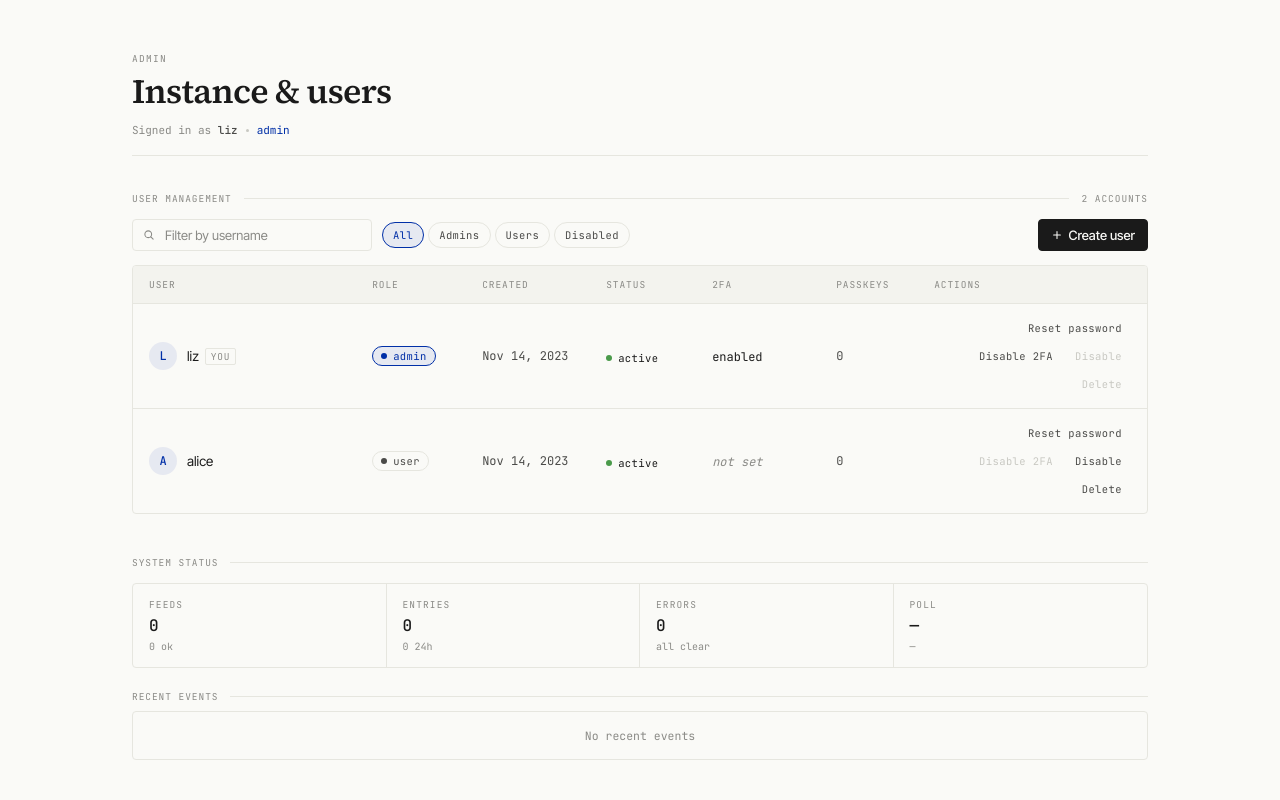
Scenario: Admin (mutations) › Reset password → confirm → result dialog shows temp password
The image size is (1280, 800).
expect the text with test id "urow-pk-2" is shown: met, box [836,453,843,469]
Click the button with test id "urow-action-reset-2" at point(1075, 433), box [1019,421,1131,445]
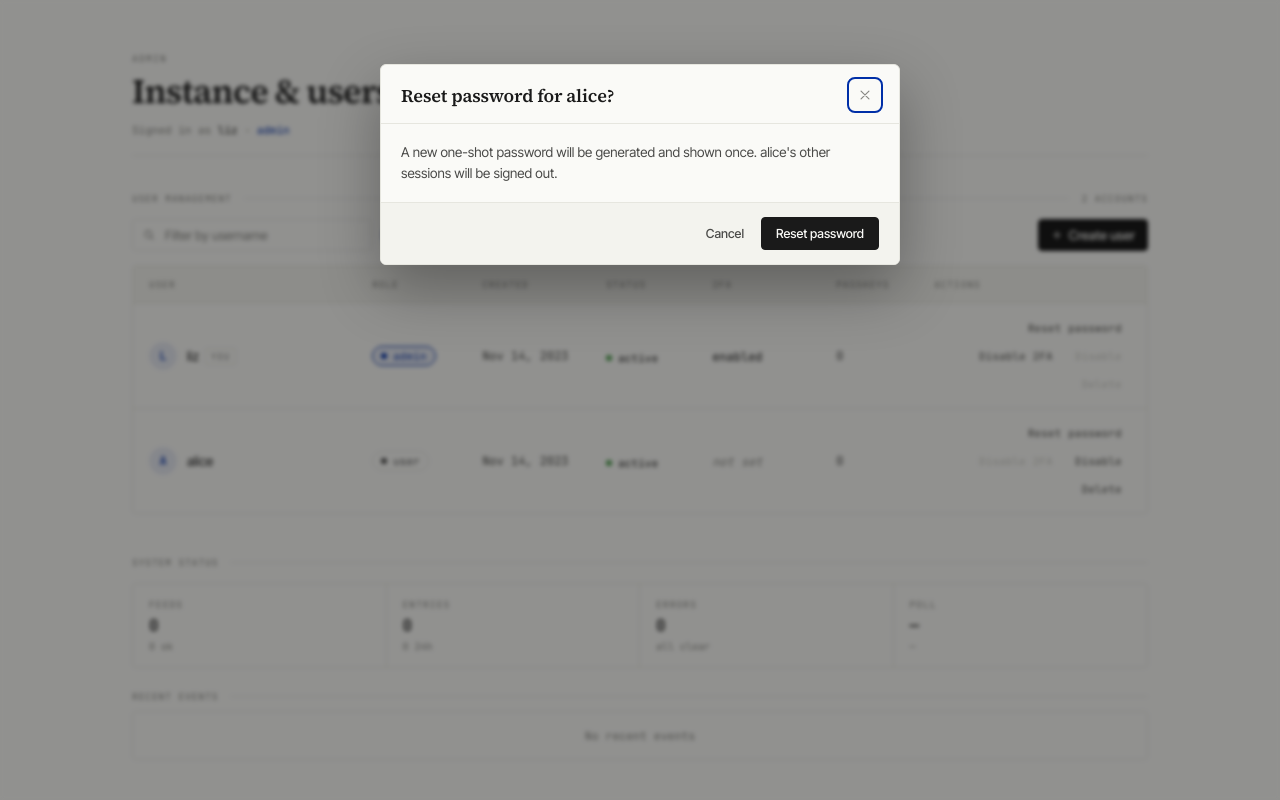
expect the button "Reset password" is shown: met
Note: find the ConfirmDialog CTA button specifically (has data-variant attribute)
Click the button "Reset password" at point(820, 233), box [761,217,879,250]
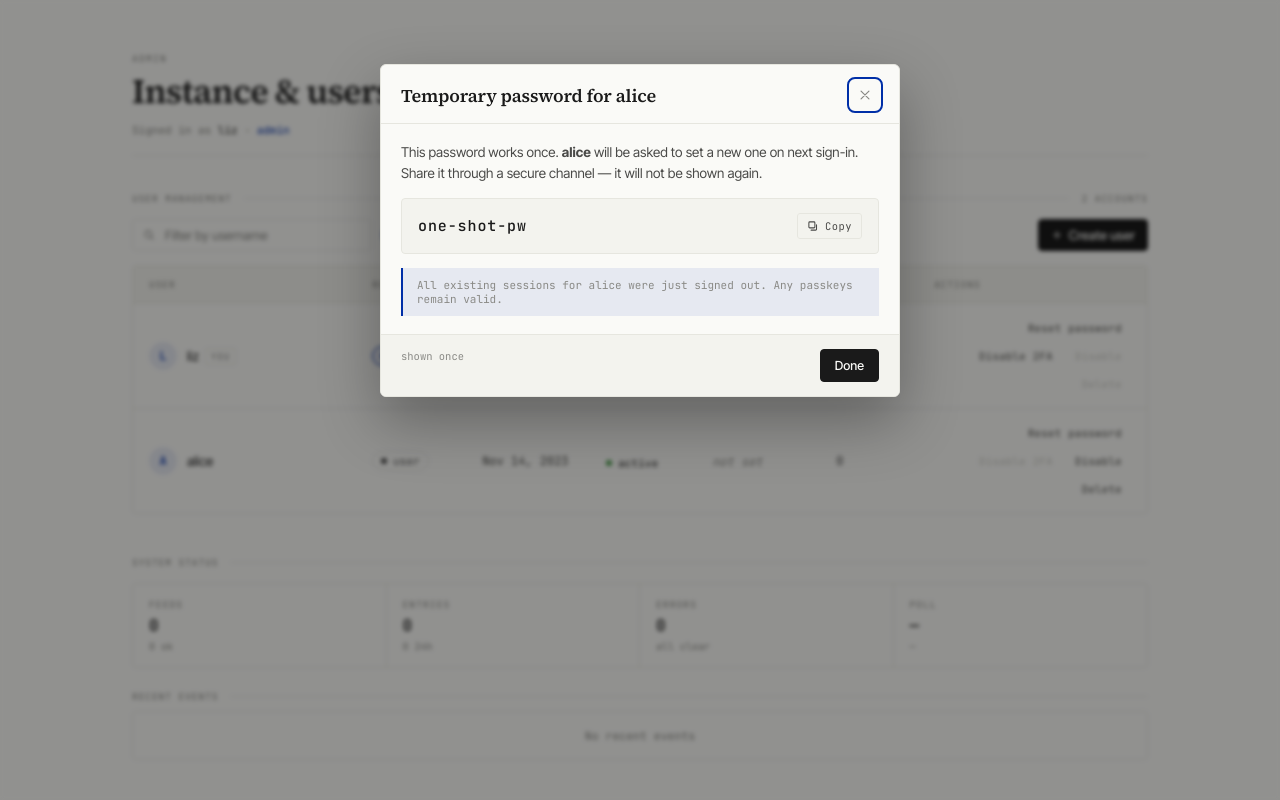
expect the text "one-shot-pw" is shown: met, box [418,216,527,236]
